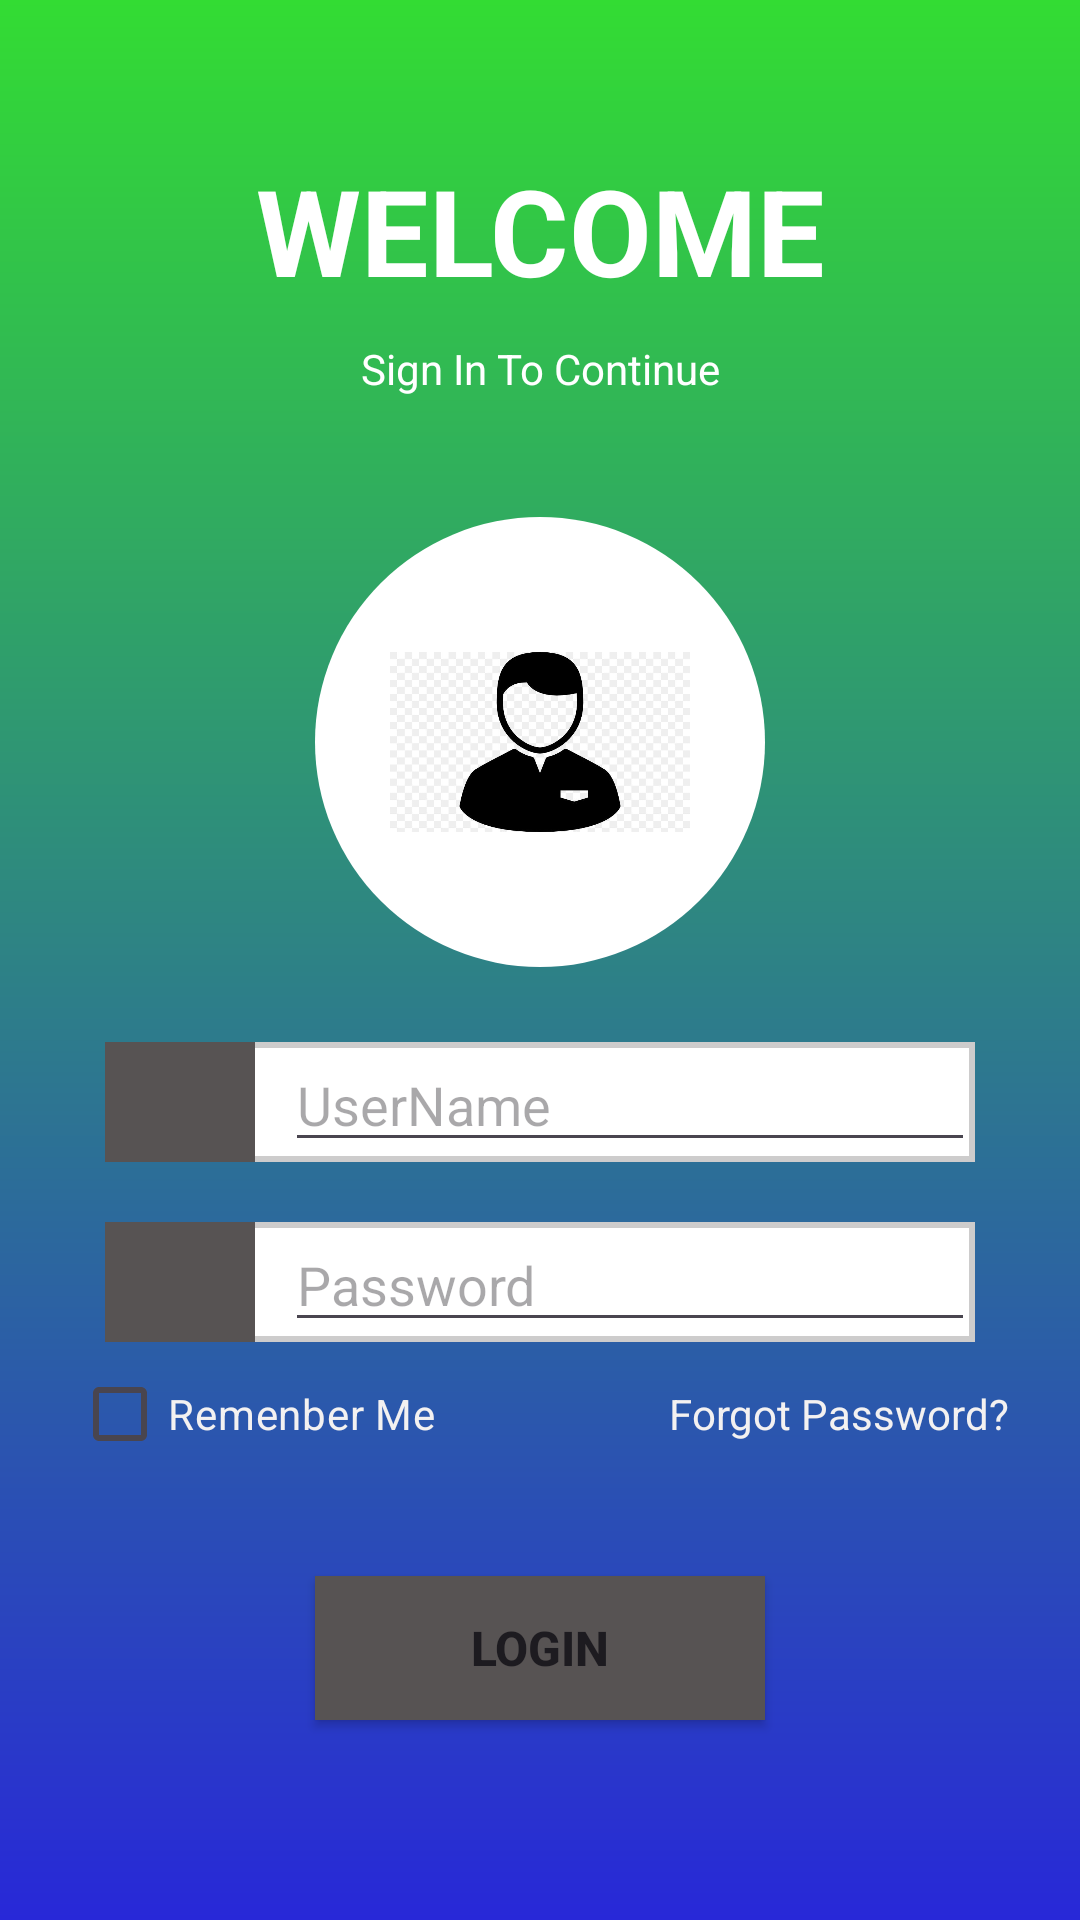

Named icons in this screenshot (1080 × 1920) and their bounding boxes, (x1, y1, x2, y2):
profile: (459, 652, 621, 832)
